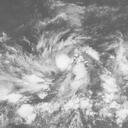cyclone: (41, 45, 84, 78)
